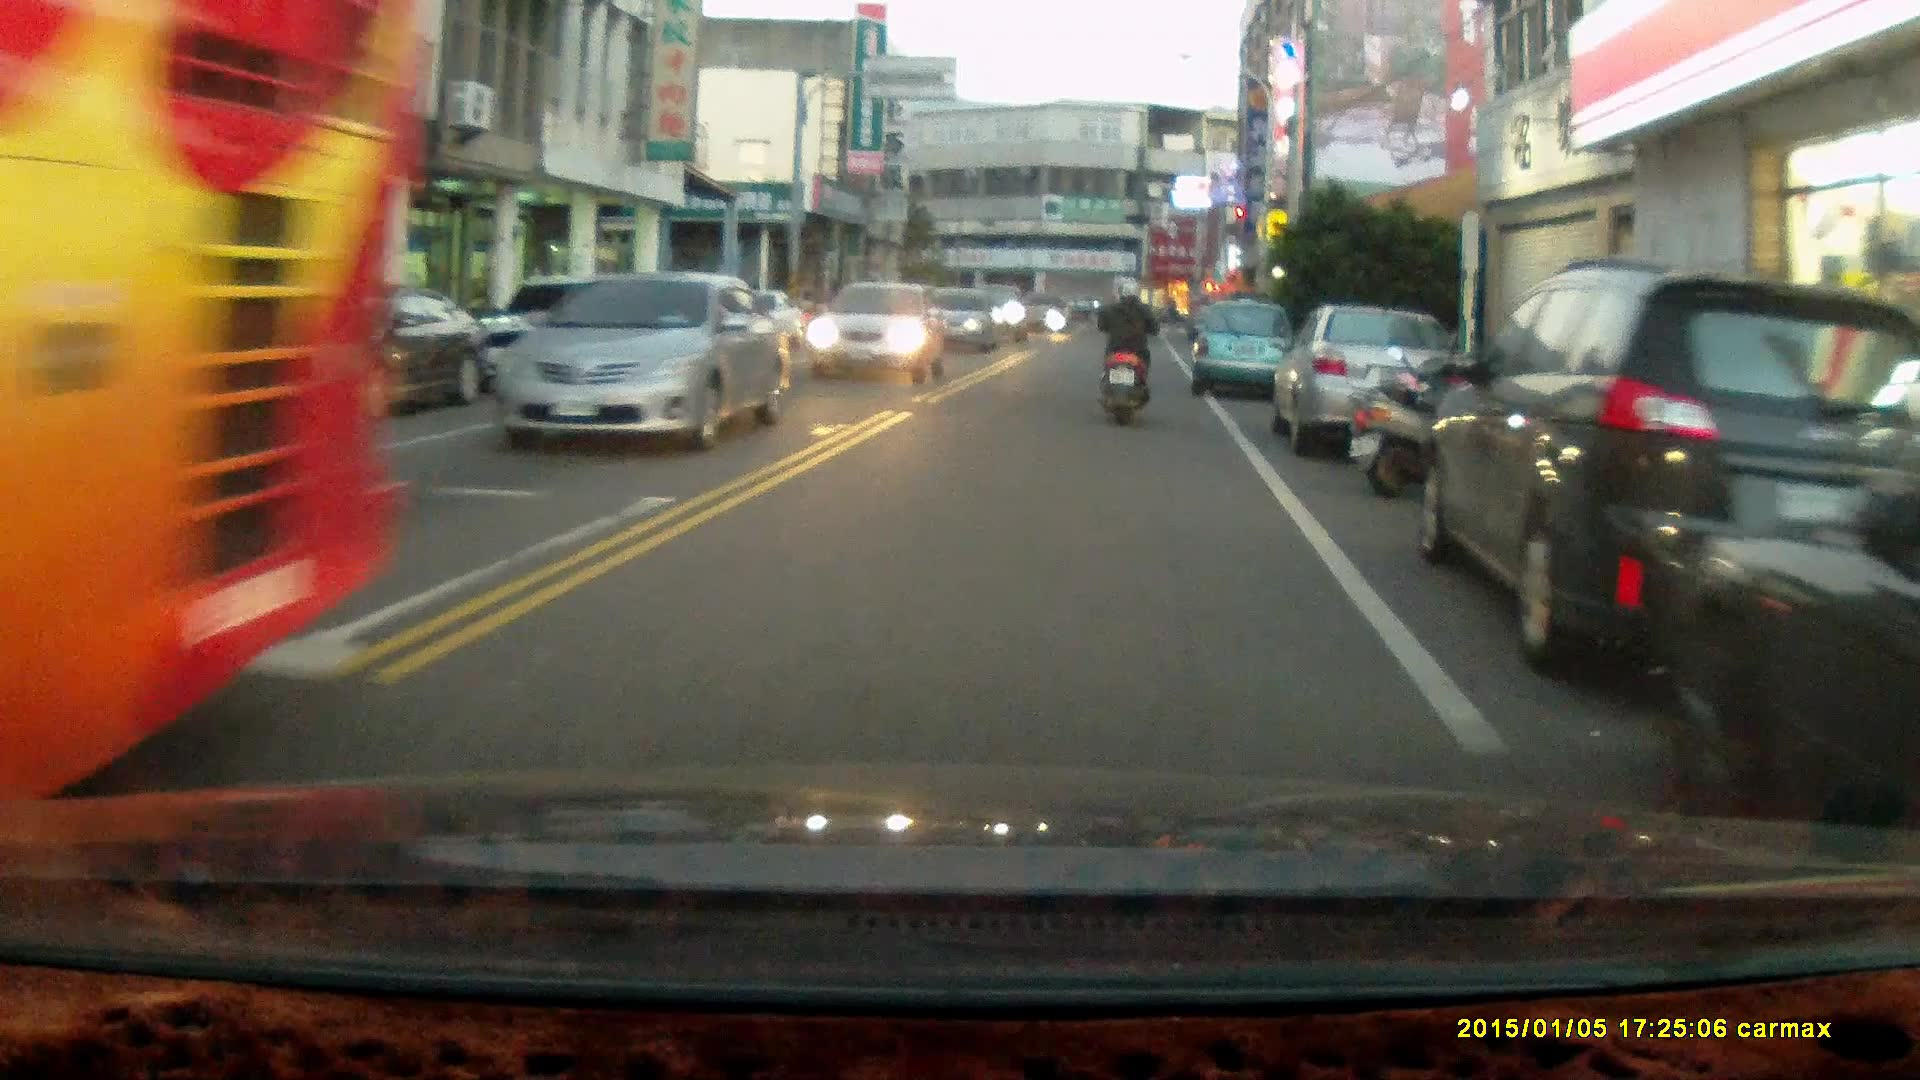rider: (1090, 272, 1154, 426)
vehicle: (1, 9, 433, 810), (1420, 258, 1920, 678), (1663, 446, 1920, 859), (489, 269, 790, 456), (245, 285, 492, 427), (1278, 303, 1457, 464), (808, 283, 948, 384), (1191, 295, 1300, 398), (915, 286, 1001, 357)
